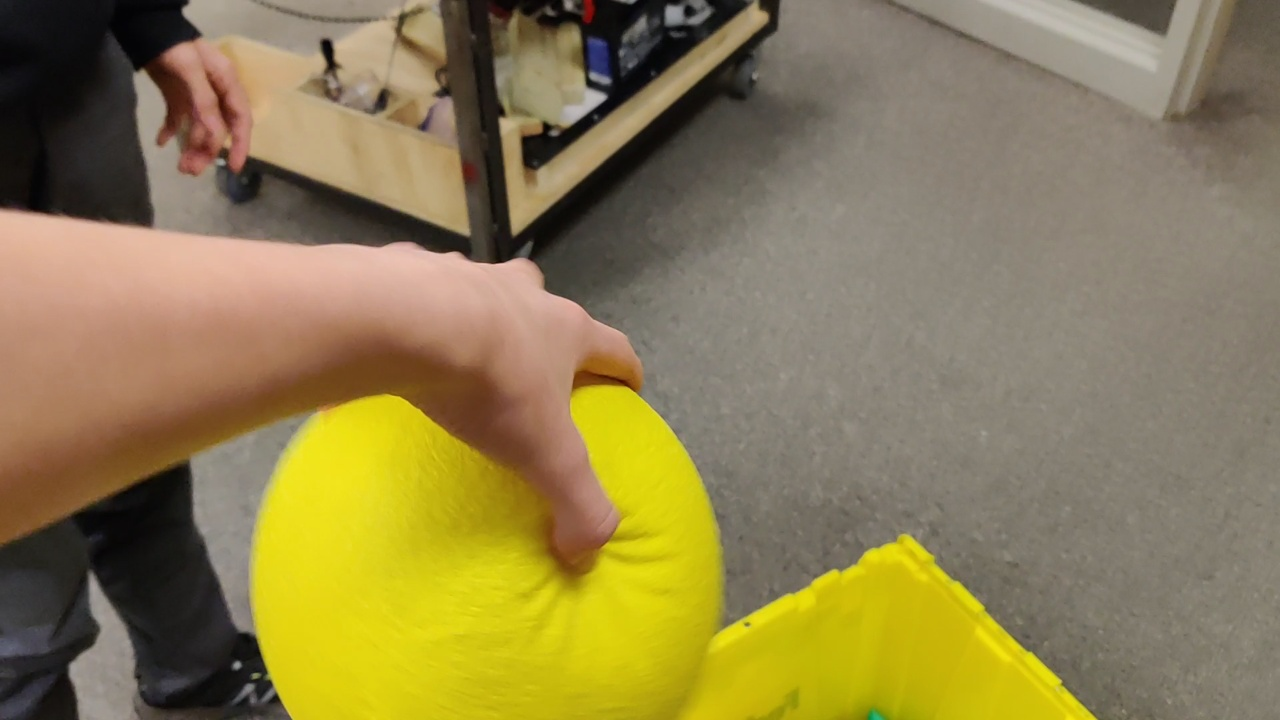Ball: (255, 364, 722, 720)
